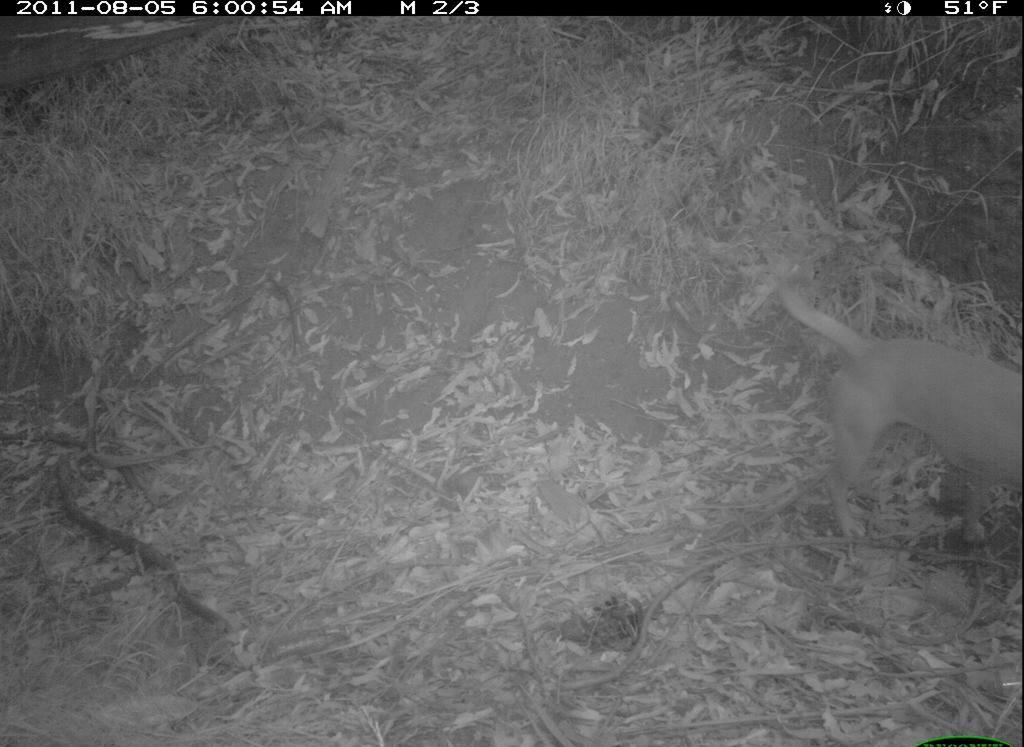dog: (770, 253, 1019, 551)
